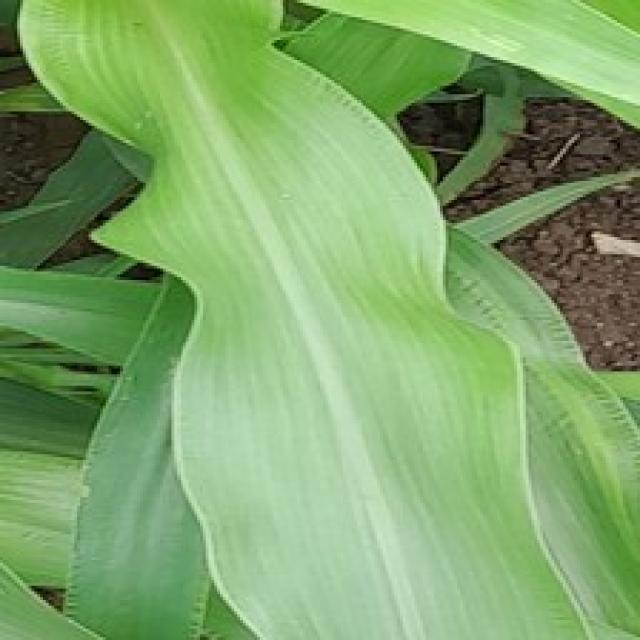Corn: (0, 0, 637, 637), (0, 0, 637, 157)
